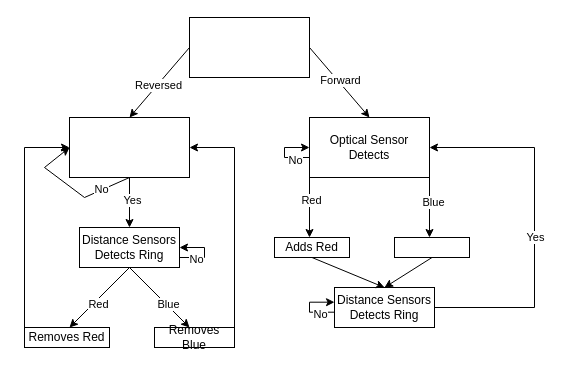
Image size: 561x369. Some labels were removed from this diagram. The shapes that lost their labels are listed below. From the top down, each one's box as (x1, y1, x2, y2) in pixels, then its label:
(188, 16, 310, 78): Intake Direction
(68, 116, 190, 178): Distance Sensor Dectects Ring
(394, 236, 470, 258): Adds Blue
